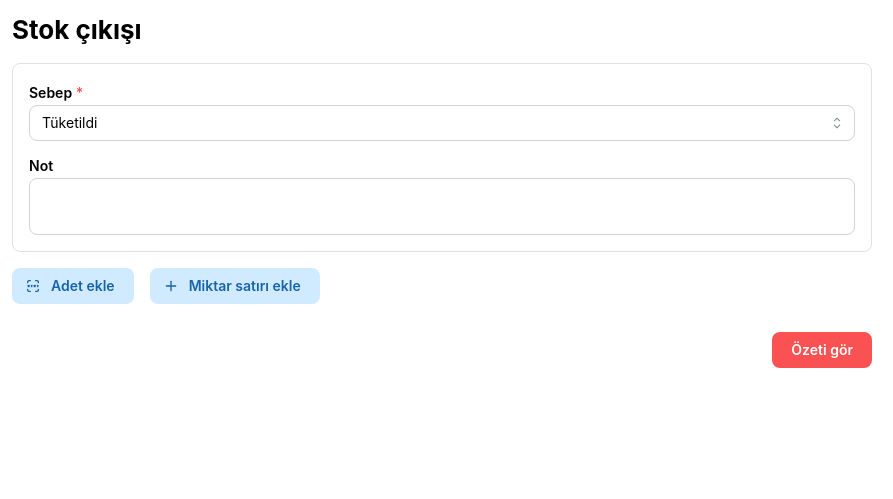
Test: StockOutPage › requires a note when the reason is "Diğer" and at least one line
Click the dropdown labelled "Sebep *". click: (442, 123)
box: [29, 105, 855, 141]
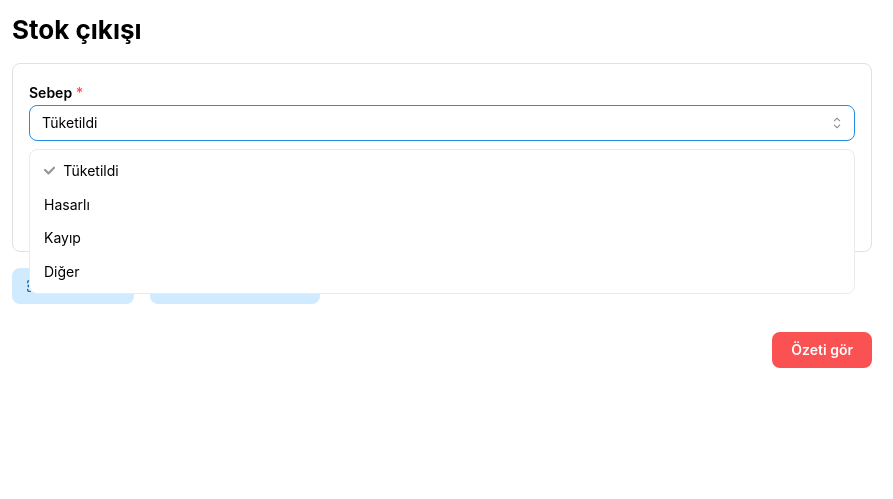
Click the option "Diğer". click: (62, 272)
box: [44, 263, 80, 280]
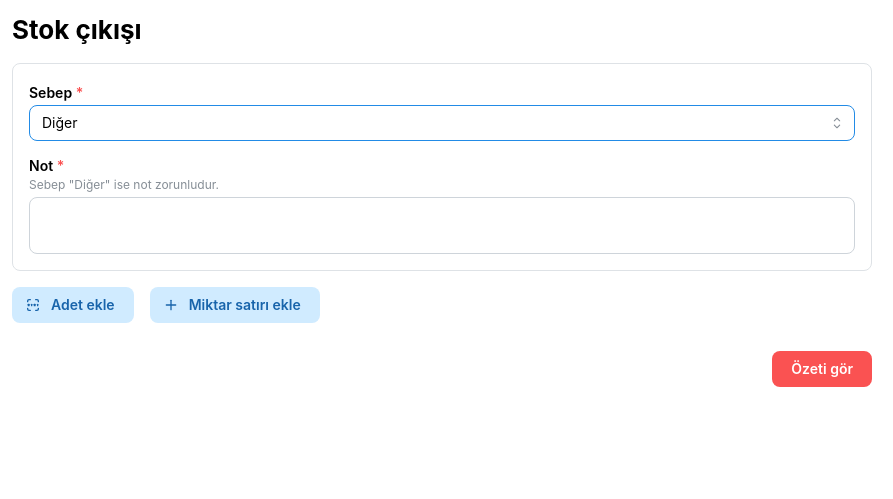
Click the button "Özeti gör". click: (822, 369)
box: [772, 351, 872, 387]
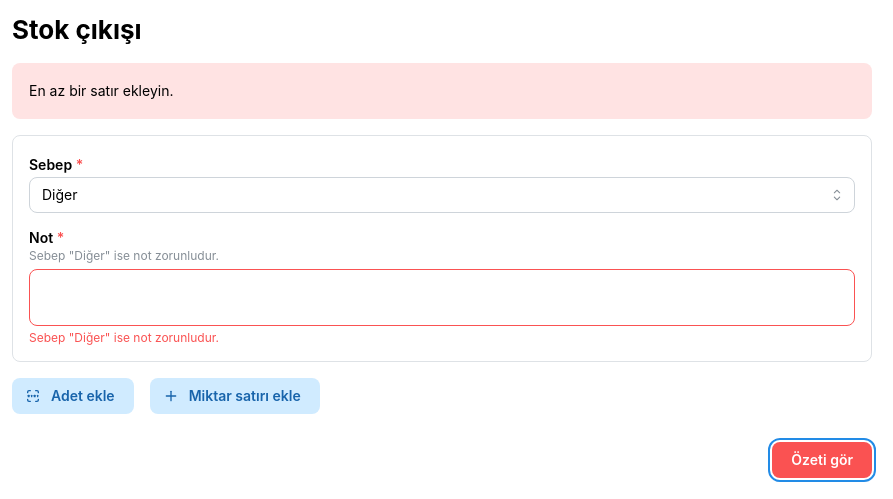
Result: the 1st text "Sebep \"Diğer\" ise not zorunludur." is shown at [29, 248, 219, 263]
Result: the text "En az bir satır ekleyin." is shown at [29, 82, 174, 99]
